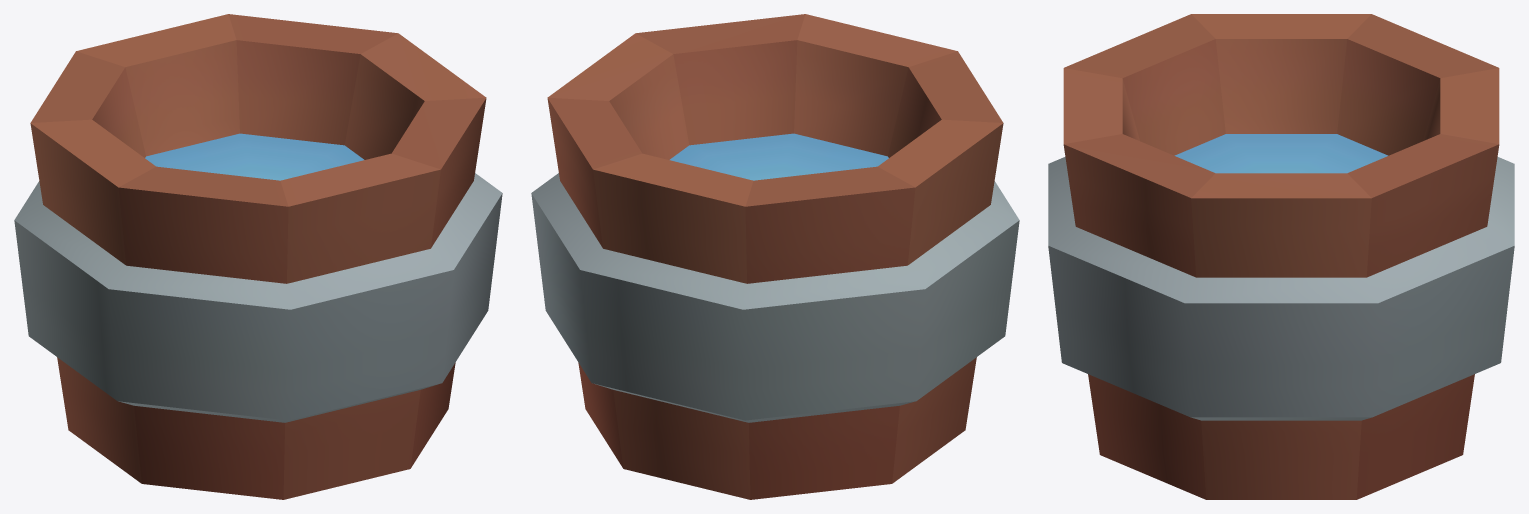
The model's file is kay-balde-agua.gltf.
3 views of the same model, side by side, from view 1: azimuth 30°, elevation 25°; view 2: azimuth 150°, elevation 25°; view 3: azimuth 270°, elevation 25° (orthographic). The views are drawn at different scales.
Parts seen in each view (by area): view 1: bucket_water; view 2: bucket_water; view 3: bucket_water.
Boxes of the visible parts, bbox=[...] form: bucket_water: bbox=[14, 14, 502, 499]; bucket_water: bbox=[531, 14, 1019, 499]; bucket_water: bbox=[1048, 14, 1514, 499].
Bounding box in the file's own units: 0.7 × 0.525 × 0.7.
Materials: 1 (1 with a texture image).
